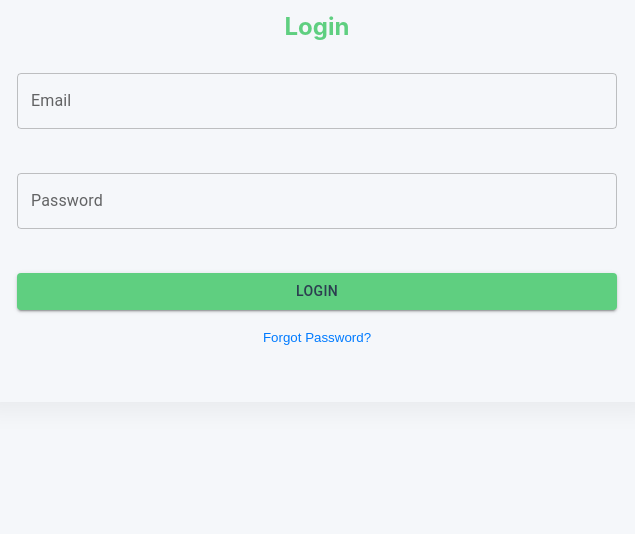
Test case: Admin Password Reset - Login Page › should render forgot password form when clicked
The width and height of the screenshot is (635, 534).
// Click forgot password button
Click the button "Forgot Password?".
click(317, 337)  # box [263,330,371,345]
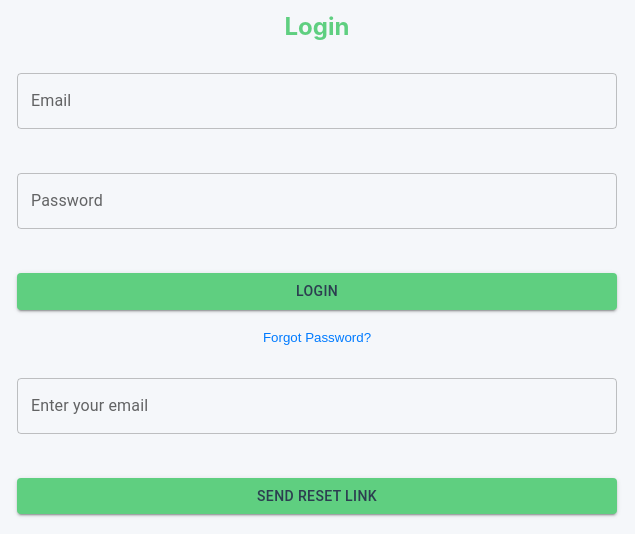
Now the text "Send Reset Link" is shown, box [17,478,617,514]
